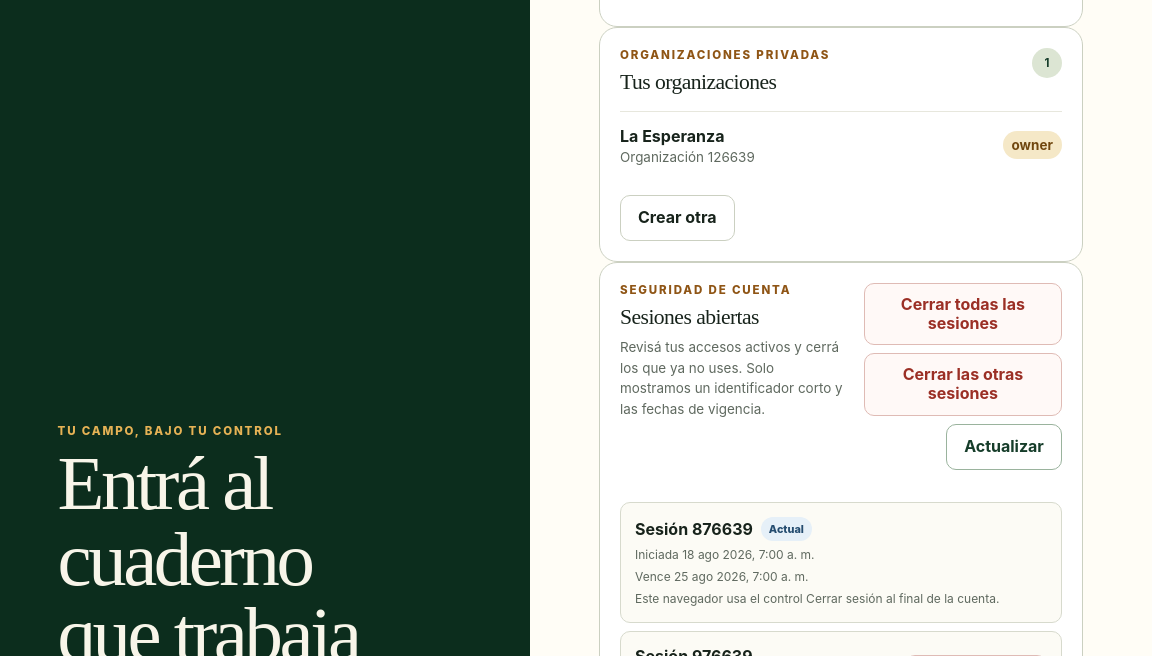
Test: IdentityHub own session management › treats a global 429 as deterministic without automatic reconciliation
This screenshot has width=1152, height=656.
(page scrolled)
Click the button "Cerrar todas las sesiones" at (963, 314), box [864, 283, 1062, 345]
(page scrolled)
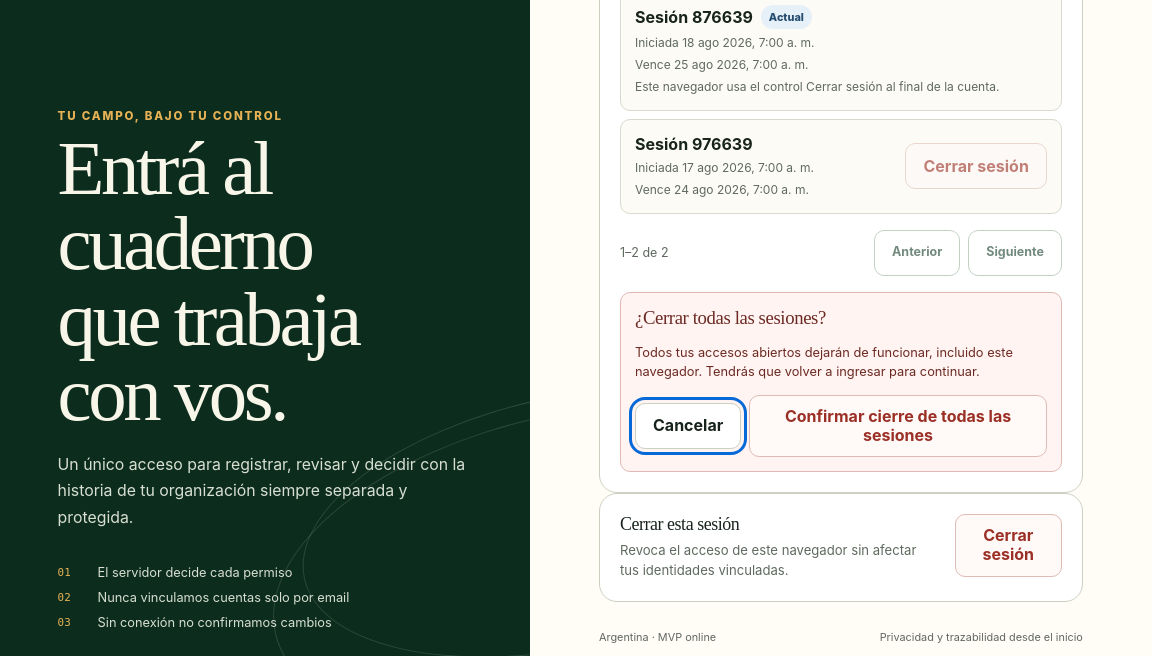
Click the button "Confirmar cierre de todas las sesiones" at (898, 426), box [749, 395, 1047, 457]
(page scrolled)
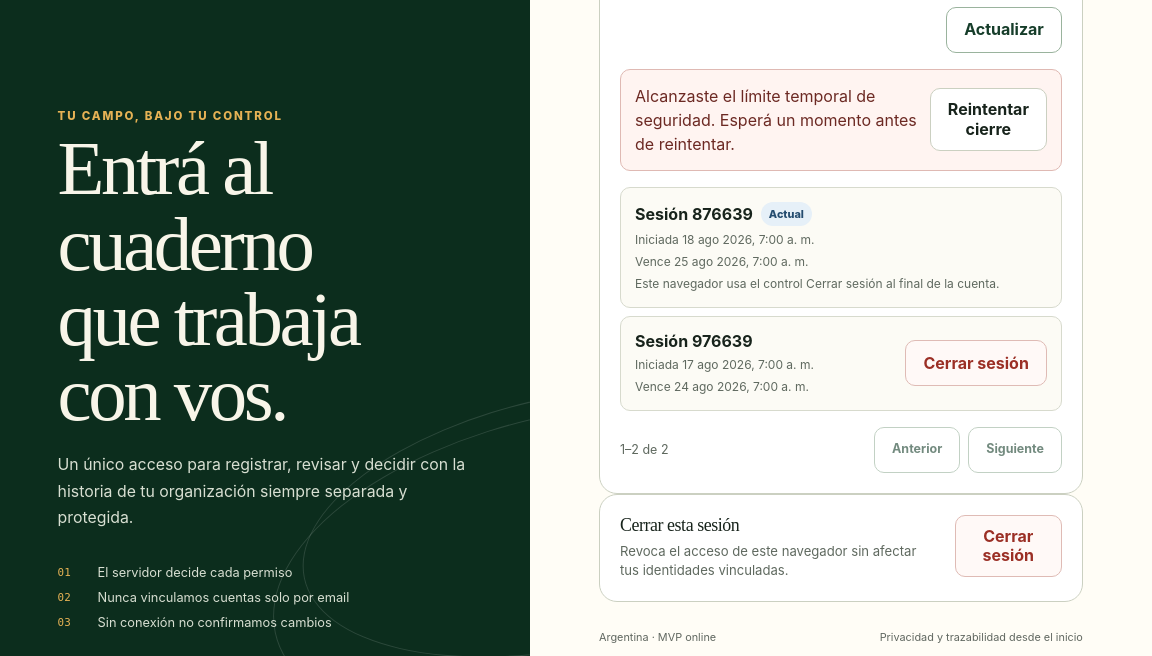
Check: the message shows "límite temporal de seguridad", box [635, 86, 917, 154]
Check: the button "Reintentar cierre" is shown, box [930, 88, 1047, 151]
